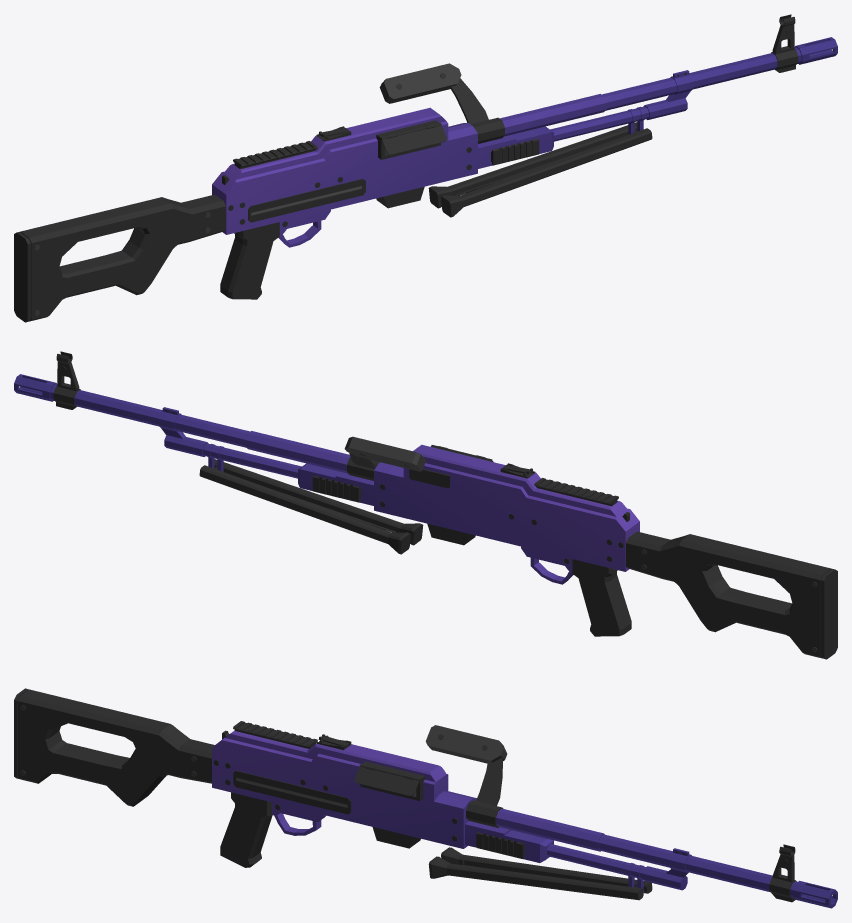
Rendered from LMG3_05.fbx.
The picture shows the model from 3 angles, top to bottom: view 1: azimuth 30°, elevation 25°; view 2: azimuth 150°, elevation 25°; view 3: azimuth 330°, elevation 25°; orthographic projection.
Parts seen in each view (by area): view 1: LMG3_05; view 2: LMG3_05; view 3: LMG3_05.
Part boxes in pixels (x1,y1,x2,y2): LMG3_05: (14, 14, 837, 322); LMG3_05: (14, 351, 837, 659); LMG3_05: (14, 688, 837, 908).
Size of the model in its own units: 1.31 by 0.2463 by 0.1301.
